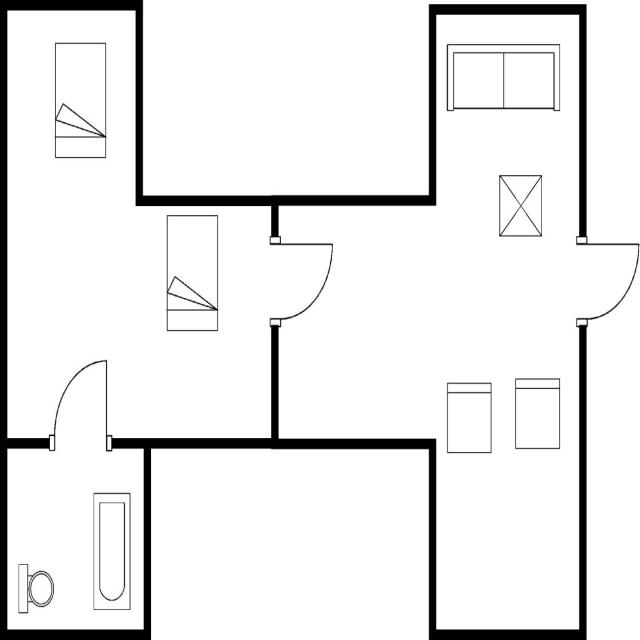bed: (51, 37, 110, 163), (163, 210, 221, 335)
coffee_table: (496, 171, 545, 241)
large_sink: (14, 558, 55, 622)
large_sofa: (443, 38, 564, 117)
small_sofa: (511, 371, 564, 453), (444, 378, 496, 458)
tub: (90, 488, 135, 615)
